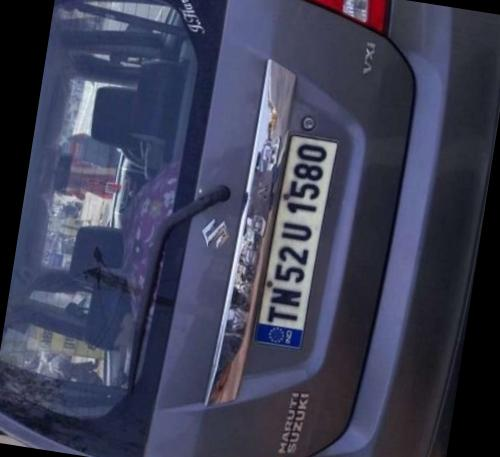plate: (239, 116, 355, 344)
